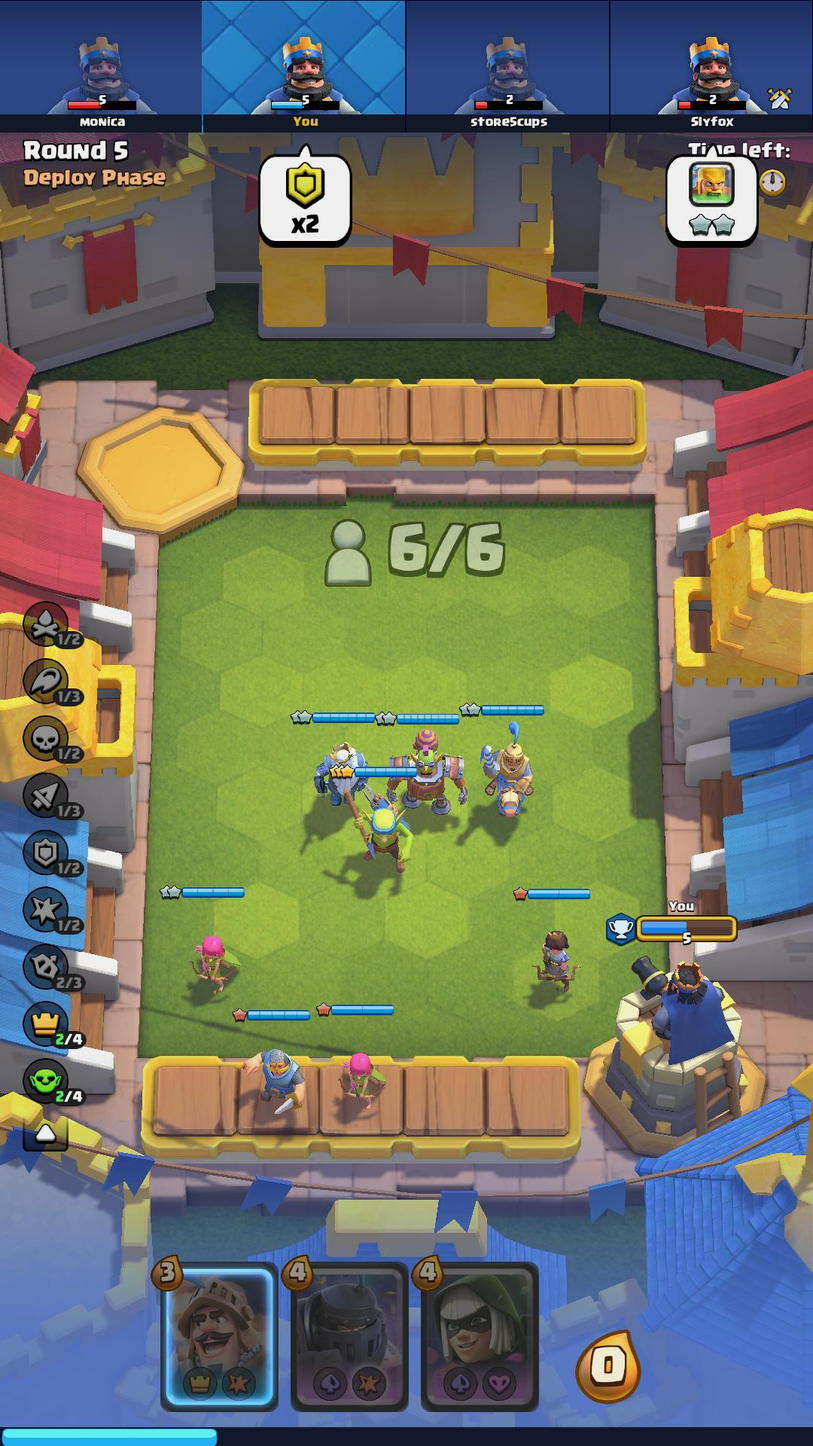archer: (338, 1046, 391, 1114), (190, 933, 241, 993)
ghost: (311, 734, 370, 811)
hand-bandit: (420, 1256, 543, 1410)
hand-mega: (293, 1259, 412, 1410)
hand-prince: (162, 1261, 280, 1405)
knight: (240, 1034, 309, 1122)
machine: (383, 727, 471, 820)
prince: (478, 721, 538, 821)
princess: (529, 926, 585, 996)
spear: (341, 787, 415, 875)
